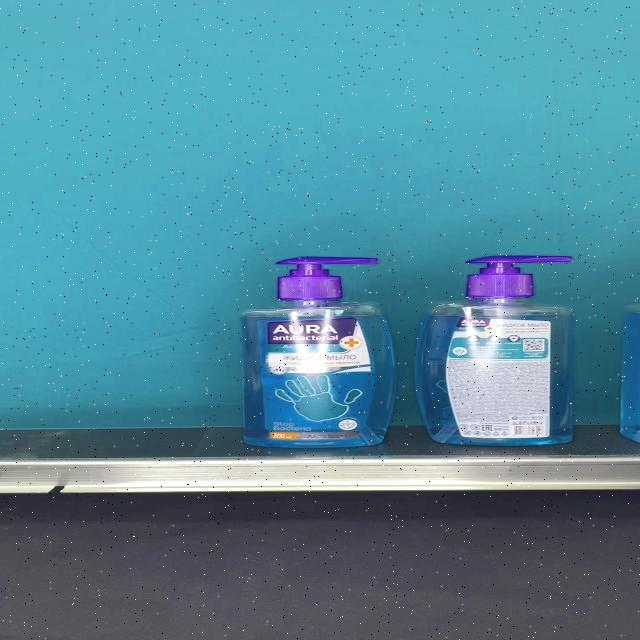Bottle: (415, 256, 576, 445), (240, 256, 396, 447)
Cap: (463, 255, 572, 298), (276, 256, 380, 299)
